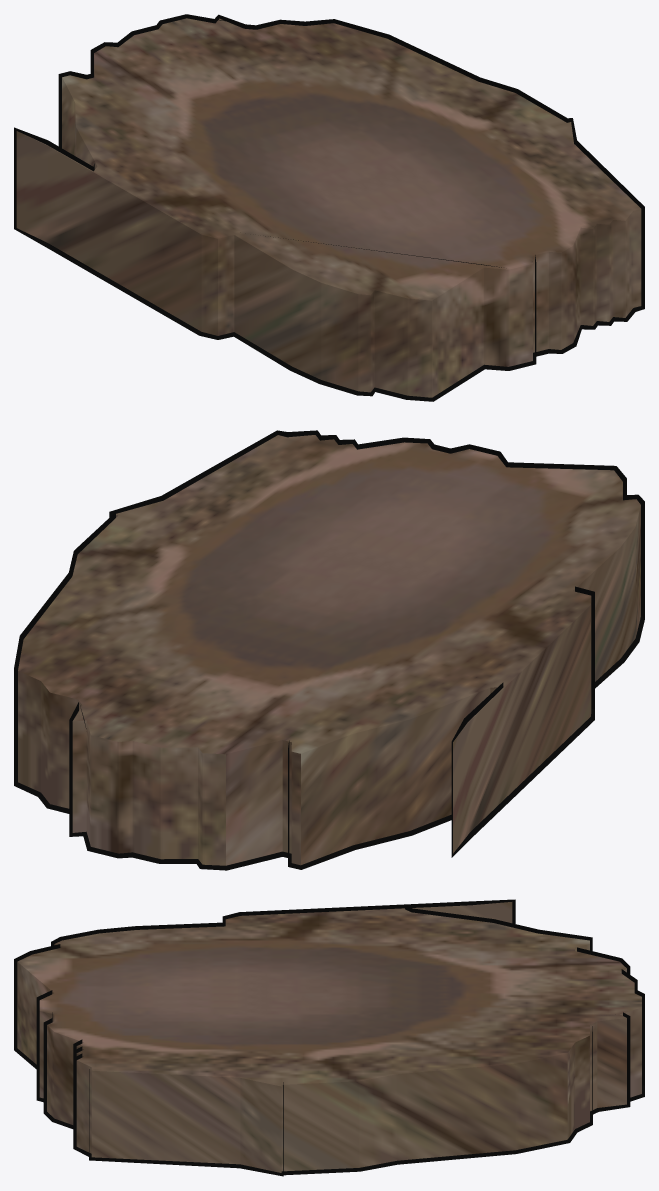
File: Building_CraterSmall_Things_Building_Crater_2x2_Crater2x2B.glb
3 renders of one model, top to bottom at view 1: azimuth 30°, elevation 25°; view 2: azimuth 150°, elevation 25°; view 3: azimuth 270°, elevation 25°, orthographic. The views are drawn at different scales.
Parts seen in each view (by area): view 1: Body, Outline; view 2: Body, Outline; view 3: Body, Outline.
Boxes of the visible parts, x1,y1,x2,y2 form: Body: (16,18,641,397); Outline: (14,14,644,401); Body: (18,435,640,865); Outline: (14,430,644,870); Body: (17,902,641,1172); Outline: (14,899,644,1176).
Size of the model in its own units: 0.8272 by 0.1942 by 1.18.
2 materials, 1 textured.
